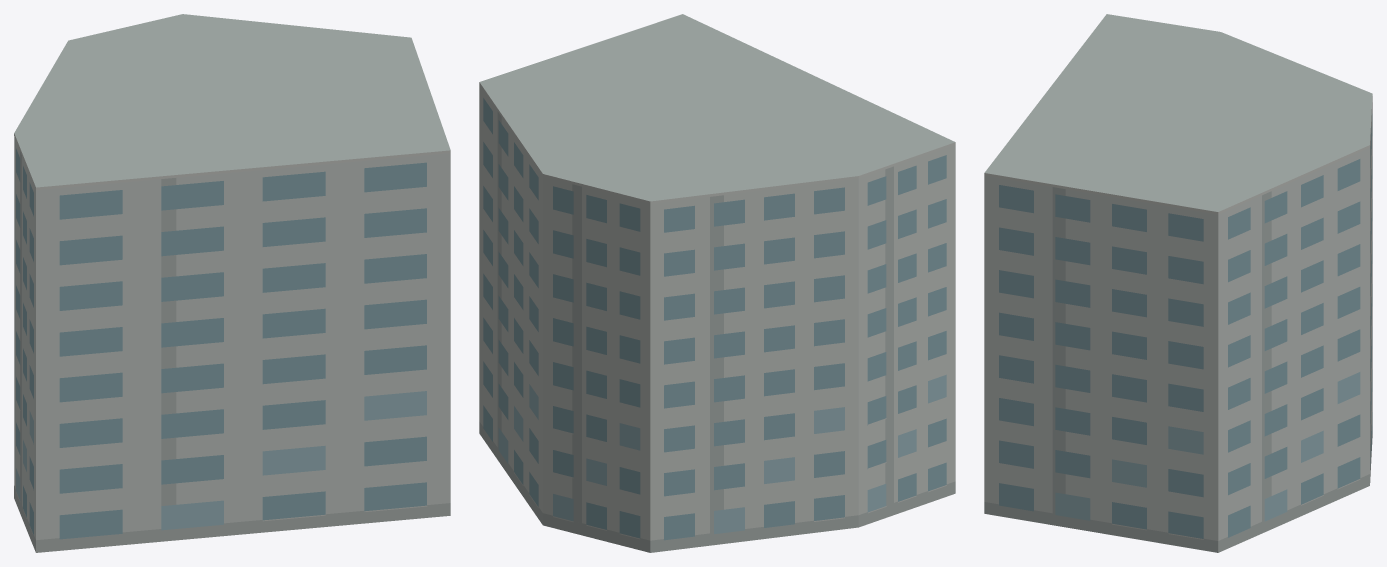
File: survey-upis-32947270.glb
3 views of the same model, side by side, from view 1: azimuth 30°, elevation 25°; view 2: azimuth 150°, elevation 25°; view 3: azimuth 270°, elevation 25° (orthographic). The views are drawn at different scales.
Parts seen in each view (by area): view 1: survey-upis-32947270.tmp; view 2: survey-upis-32947270.tmp; view 3: survey-upis-32947270.tmp.
Part boxes in pixels (x1=…): survey-upis-32947270.tmp: x1=14, y1=14, x2=450, y2=552; survey-upis-32947270.tmp: x1=479, y1=14, x2=955, y2=552; survey-upis-32947270.tmp: x1=984, y1=14, x2=1372, y2=552.
Size of the model in its own units: 39.34 by 31.55 by 32.59.
